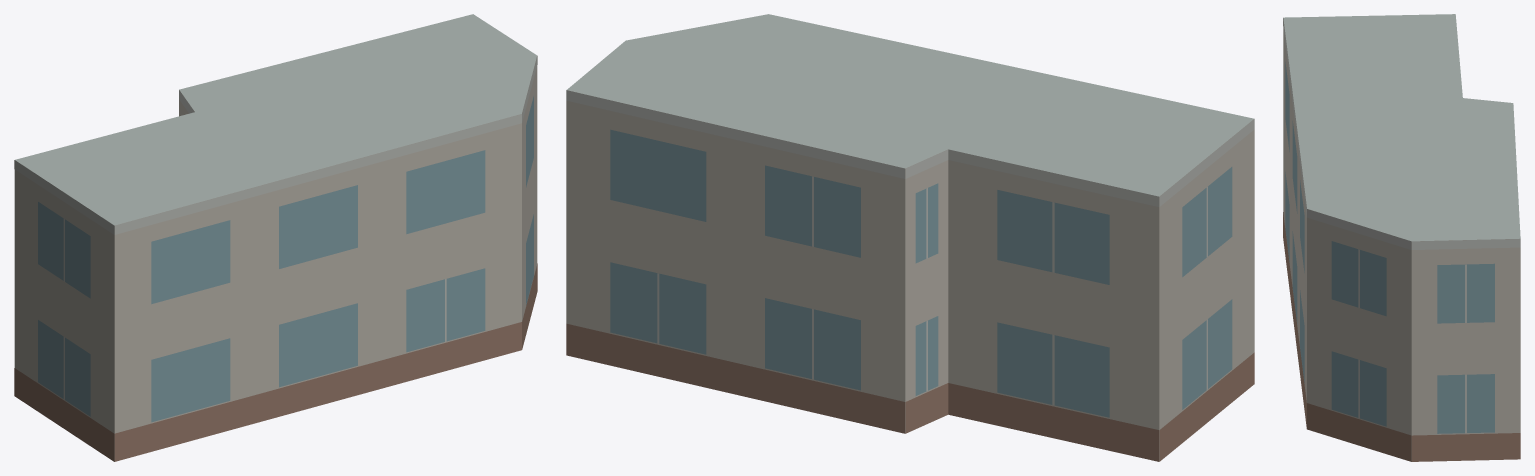
Rendered from survey-upis-32966962.glb.
The picture shows the model from 3 angles, left to right: view 1: azimuth 30°, elevation 25°; view 2: azimuth 150°, elevation 25°; view 3: azimuth 270°, elevation 25°; orthographic projection. The views are drawn at different scales.
Visible parts, largest first — view 1: survey-upis-32966962.tmp; view 2: survey-upis-32966962.tmp; view 3: survey-upis-32966962.tmp.
Part boxes in pixels (x1=…): survey-upis-32966962.tmp: x1=14, y1=14, x2=537, y2=461; survey-upis-32966962.tmp: x1=566, y1=14, x2=1254, y2=461; survey-upis-32966962.tmp: x1=1283, y1=14, x2=1520, y2=461.
Size of the model in its own units: 13.49 by 6.1 by 5.96.
